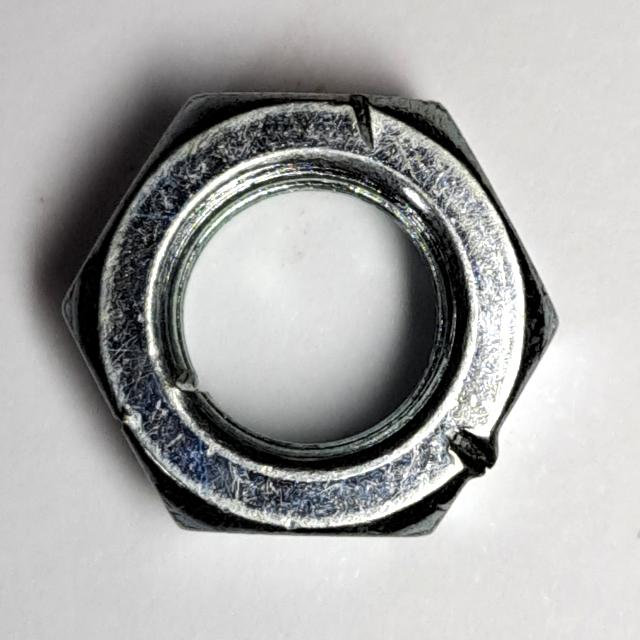Scratches: (49, 72, 569, 558)
